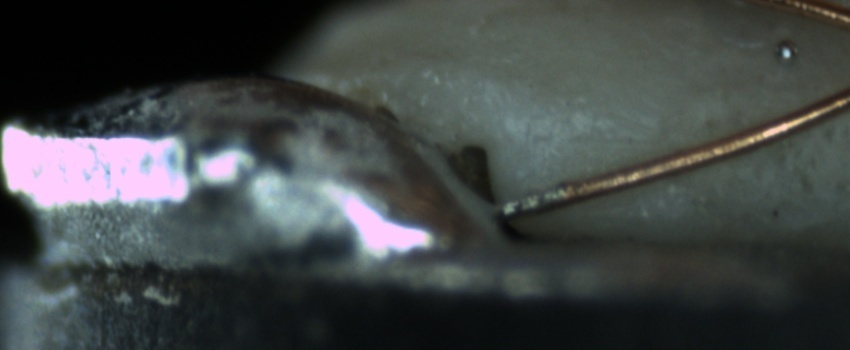DL: (538, 110, 670, 168)
TS: (491, 185, 564, 221)
